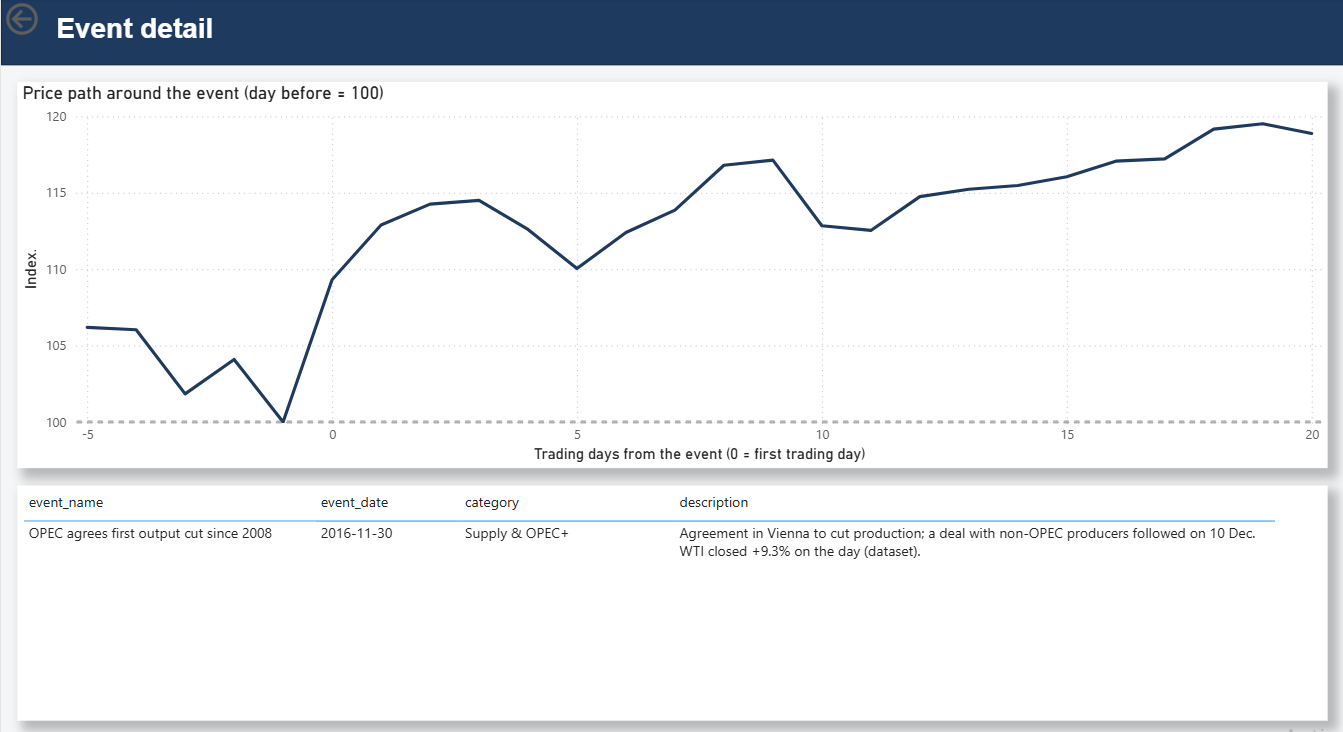

The dashboard page shown, as its layout file describes it:
{"tool":"powerbi","page":{"name":"Event Detail","canvas":[1280,720],"ordinal":5},"visuals":[{"type":"shape","box":[0,0,1280,64],"z":0},{"type":"lineChart","title":"Price path around the event (day before = 100)","fields":{"Category":["Offset.Offset"],"Y":["fact_daily.Event Path Index"]},"box":[16,80,1248,368],"z":1000},{"type":"actionButton","box":[0,0,100,40],"z":2000},{"type":"tableEx","fields":{"Values":["dim_event.event_name","dim_event.event_date","dim_event.category","dim_event.description"]},"box":[16,464,1248,224],"z":3000},{"type":"textbox","box":[48,10,480,48],"z":4000}]}

Visuals, with their boxes on the page's 1280x720 design canvas (x1, y1, x2, y2). These are canvas units, not pixel positions in the 1343x732 screenshot, which may show the page scaled, cropped or inside an application window:
shape: l=0, t=0, r=1280, b=64
"Price path around the event (day before = 100)" lineChart: l=16, t=80, r=1264, b=448
actionButton: l=0, t=0, r=100, b=40
tableEx - dim_event.event_name x dim_event.event_date: l=16, t=464, r=1264, b=688
textbox: l=48, t=10, r=528, b=58
